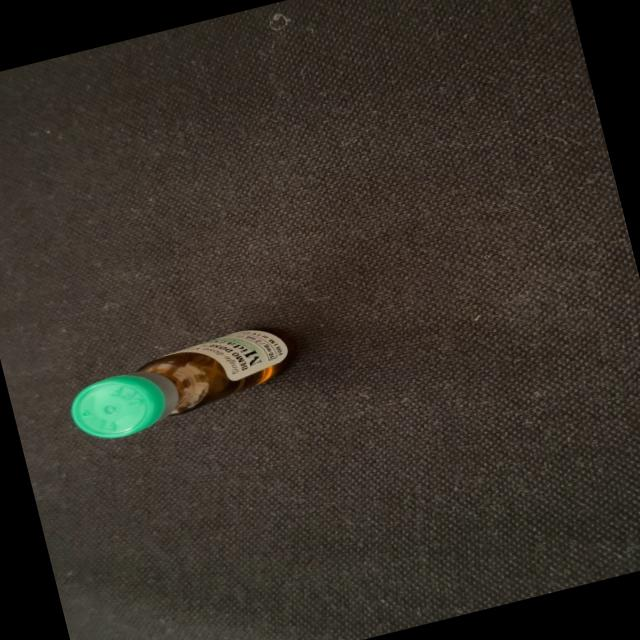midazolm: (65, 319, 298, 445)
